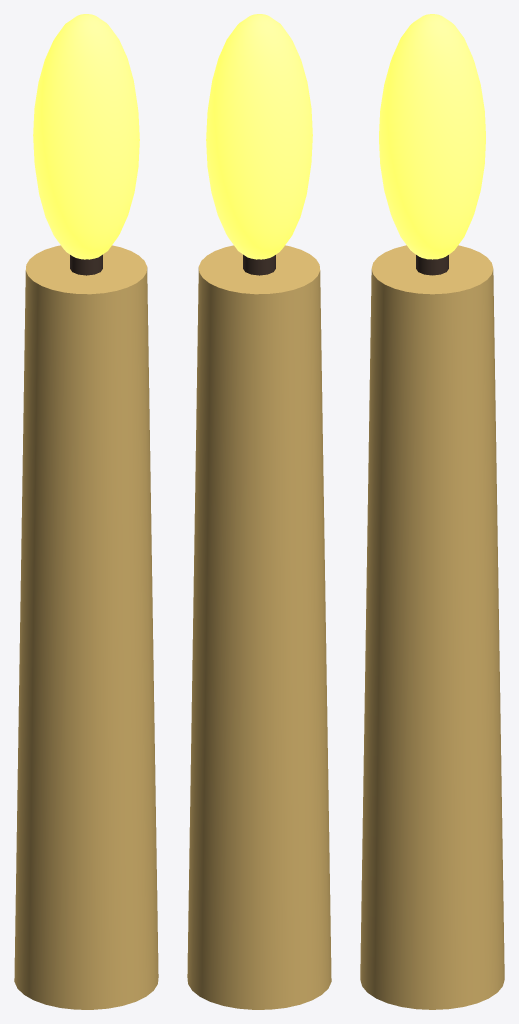
The model's file is votive-candle.glb.
3 renders of one model, left to right at view 1: azimuth 30°, elevation 25°; view 2: azimuth 150°, elevation 25°; view 3: azimuth 270°, elevation 25°, orthographic.
Parts seen in each view (by area): view 1: votive-candle, lit; view 2: votive-candle, lit; view 3: votive-candle, lit.
Boxes of the visible parts, box(x1,y1,x2,y2) form: votive-candle: box(14, 245, 158, 1009); lit: box(33, 14, 139, 259); votive-candle: box(187, 245, 331, 1009); lit: box(206, 14, 312, 259); votive-candle: box(360, 245, 504, 1009); lit: box(379, 14, 485, 259).
Size of the model in its own units: 0.14 by 1.03 by 0.14.
